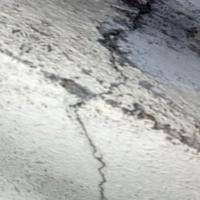crack: (56, 97, 128, 199)
